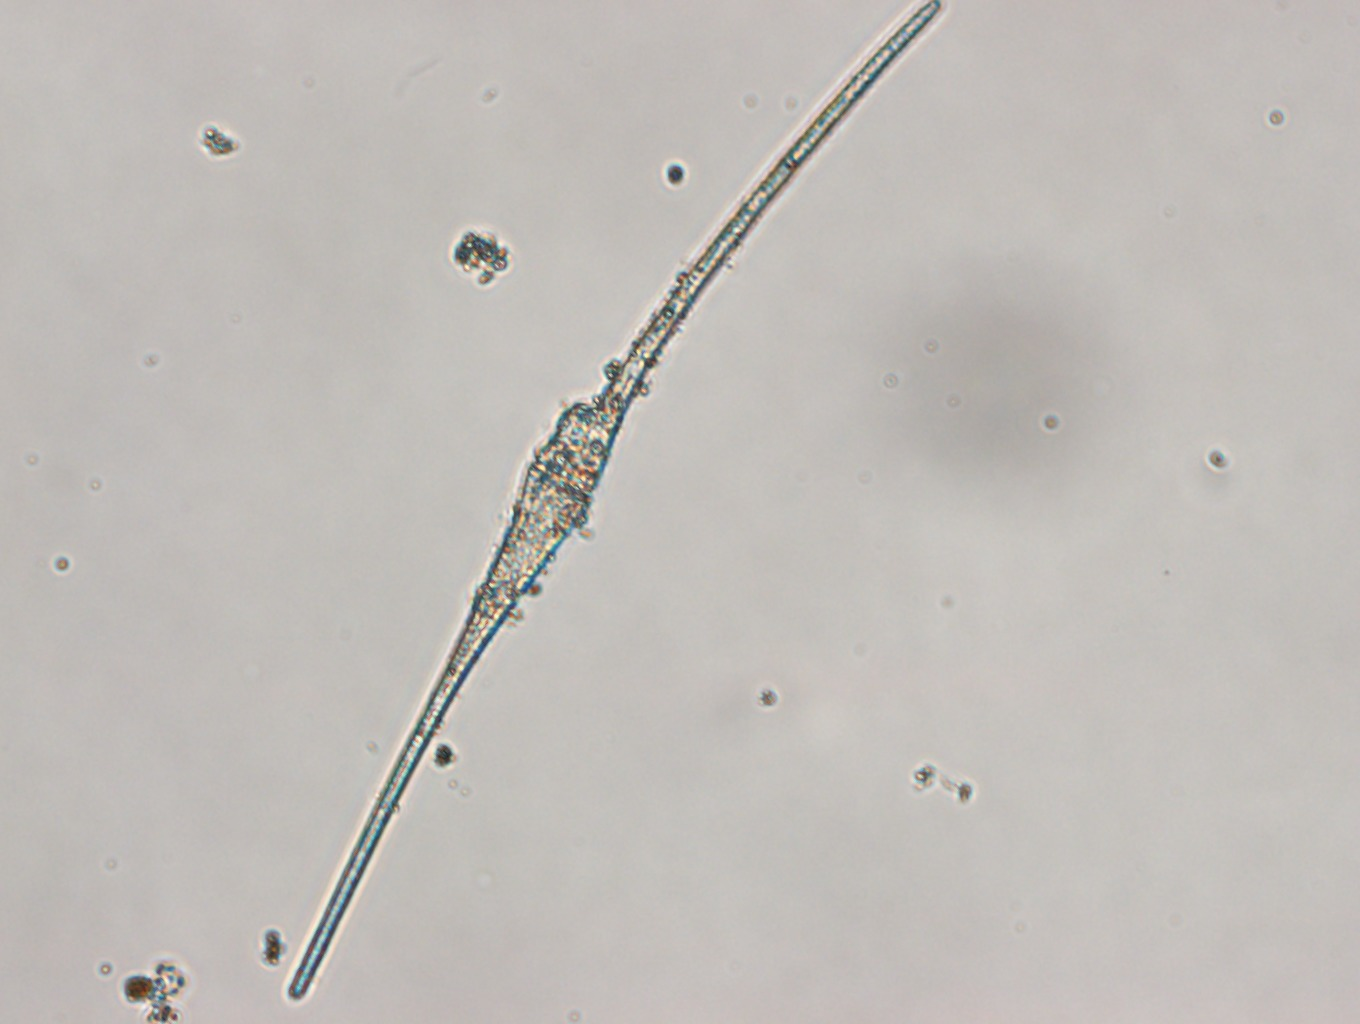ceratium fusus: (287, 1, 944, 998)
